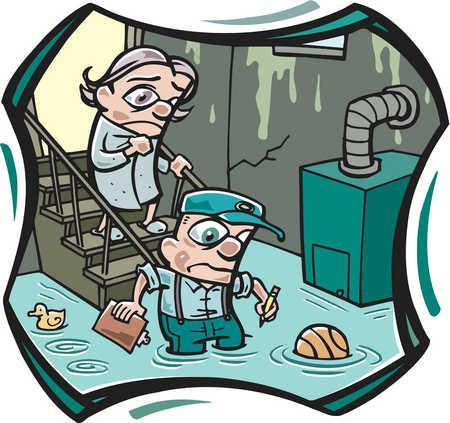bird: (24, 299, 70, 333)
person: (110, 186, 287, 354), (81, 41, 193, 237)
